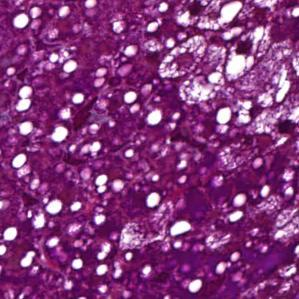ballooning: (224, 23, 275, 82), (155, 33, 211, 81)
